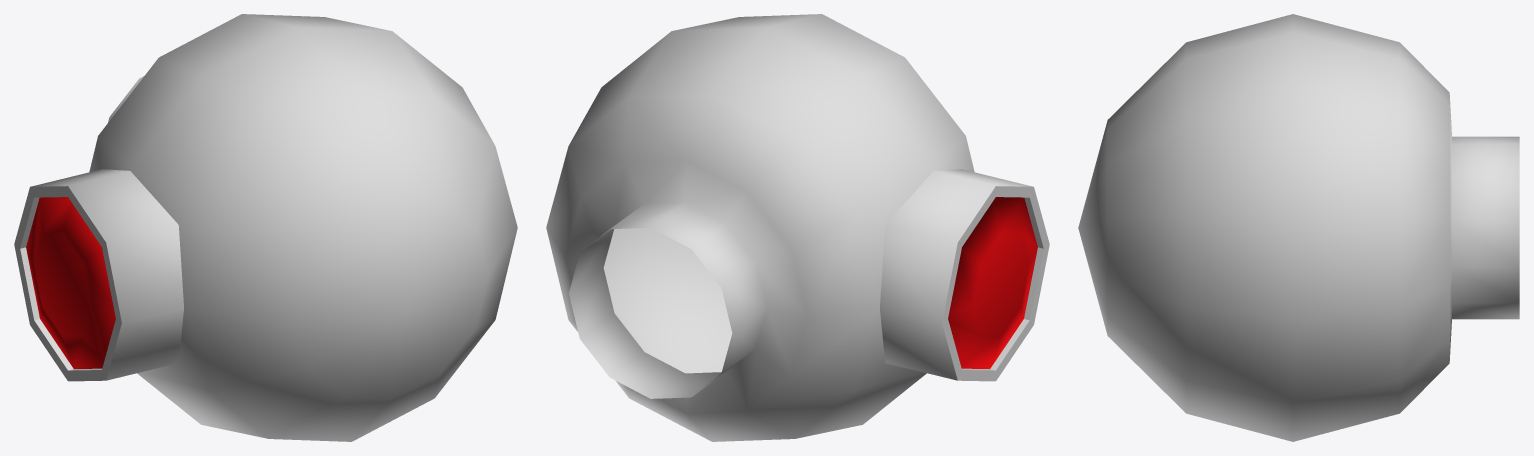
File: CameraHead.fbx
3 renders of one model, left to right at view 1: azimuth 30°, elevation 25°; view 2: azimuth 150°, elevation 25°; view 3: azimuth 270°, elevation 25°, orthographic. The views are drawn at different scales.
Parts seen in each view (by area): view 1: Sphere; view 2: Sphere; view 3: Sphere.
Boxes of the visible parts, x1=… form: Sphere: x1=14, y1=14, x2=517, y2=441; Sphere: x1=546, y1=14, x2=1049, y2=441; Sphere: x1=1078, y1=14, x2=1519, y2=441.
Bounding box in the file's own units: 92.26 × 83.03 × 85.32.
